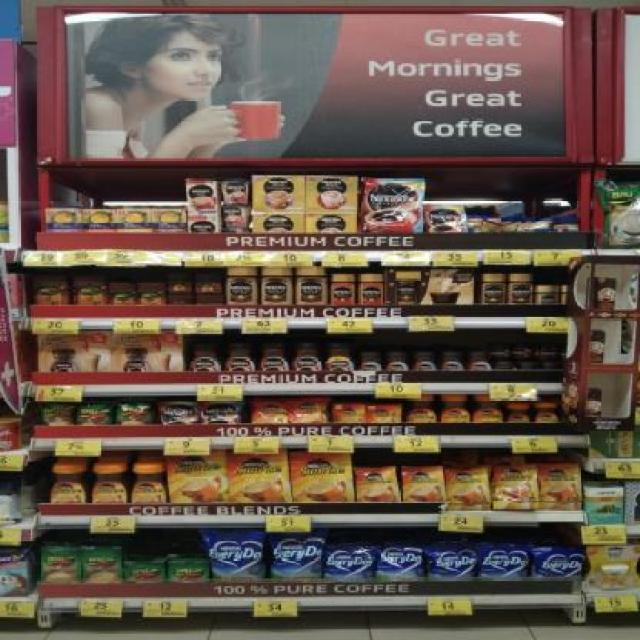Coffee: (362, 178, 423, 233), (294, 452, 352, 502), (230, 452, 286, 502), (171, 455, 227, 503), (494, 467, 538, 510), (542, 465, 582, 509), (448, 470, 489, 510), (403, 467, 442, 502), (93, 464, 127, 504), (51, 465, 86, 503), (359, 468, 396, 501), (133, 466, 164, 503), (227, 266, 256, 305), (297, 267, 326, 304), (427, 206, 467, 232), (263, 267, 291, 304), (254, 399, 289, 424), (202, 401, 240, 424), (159, 402, 198, 424), (293, 399, 327, 424), (260, 342, 288, 371), (474, 394, 504, 421), (326, 343, 354, 371), (440, 394, 469, 421), (224, 344, 254, 370), (190, 346, 220, 372), (407, 396, 436, 422), (510, 273, 533, 304), (294, 344, 320, 371), (482, 274, 504, 303), (535, 402, 560, 423), (508, 402, 530, 423), (358, 352, 382, 371), (413, 352, 436, 371), (386, 352, 409, 371), (538, 285, 560, 304), (442, 352, 463, 371), (468, 352, 489, 371), (511, 346, 531, 360), (538, 346, 558, 359), (493, 344, 509, 358)
